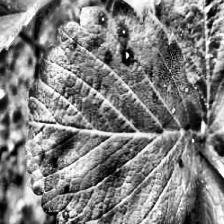Leaf Spot: (23, 0, 204, 224), (148, 0, 224, 145), (100, 143, 224, 224)
